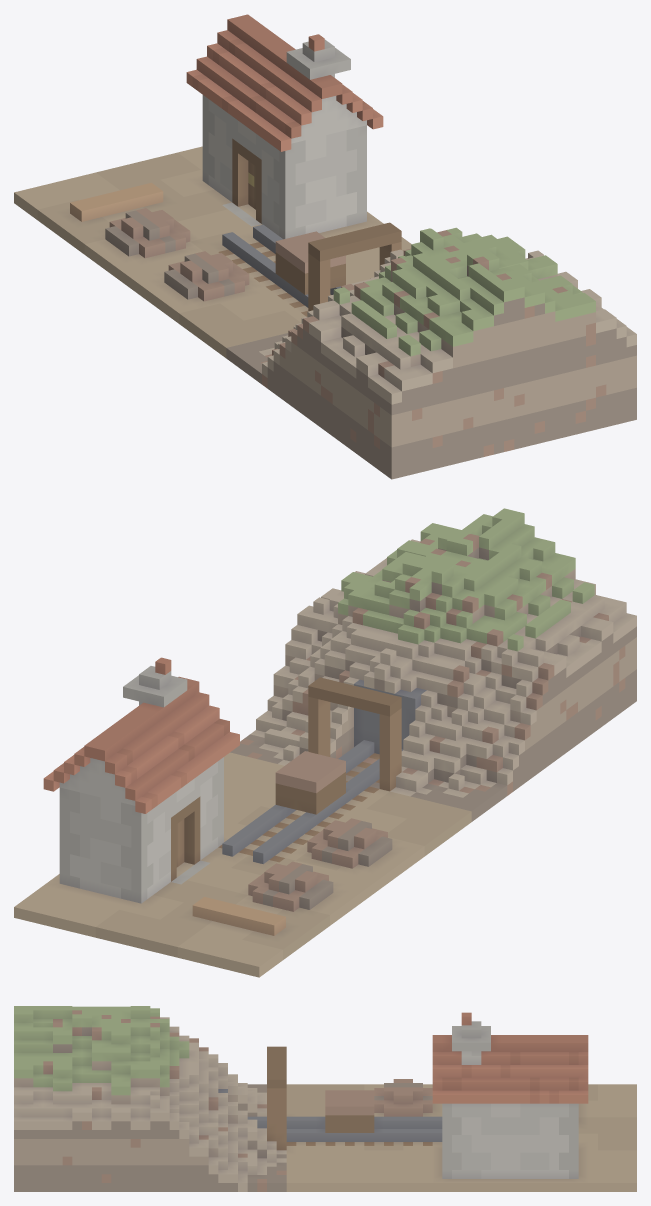
File: iron_mine.glb
The picture shows the model from 3 angles, top to bottom: view 1: azimuth 30°, elevation 25°; view 2: azimuth 150°, elevation 25°; view 3: azimuth 270°, elevation 25°; orthographic projection. The views are drawn at different scales.
Visible parts, largest first — view 1: iron_mine; view 2: iron_mine; view 3: iron_mine.
Boxes of the visible parts, x1,y1,x2,y2 form: iron_mine: (14,14,636,479); iron_mine: (14,508,636,977); iron_mine: (14,1006,636,1191).
Size of the model in its own units: 3 by 2.25 by 8.
